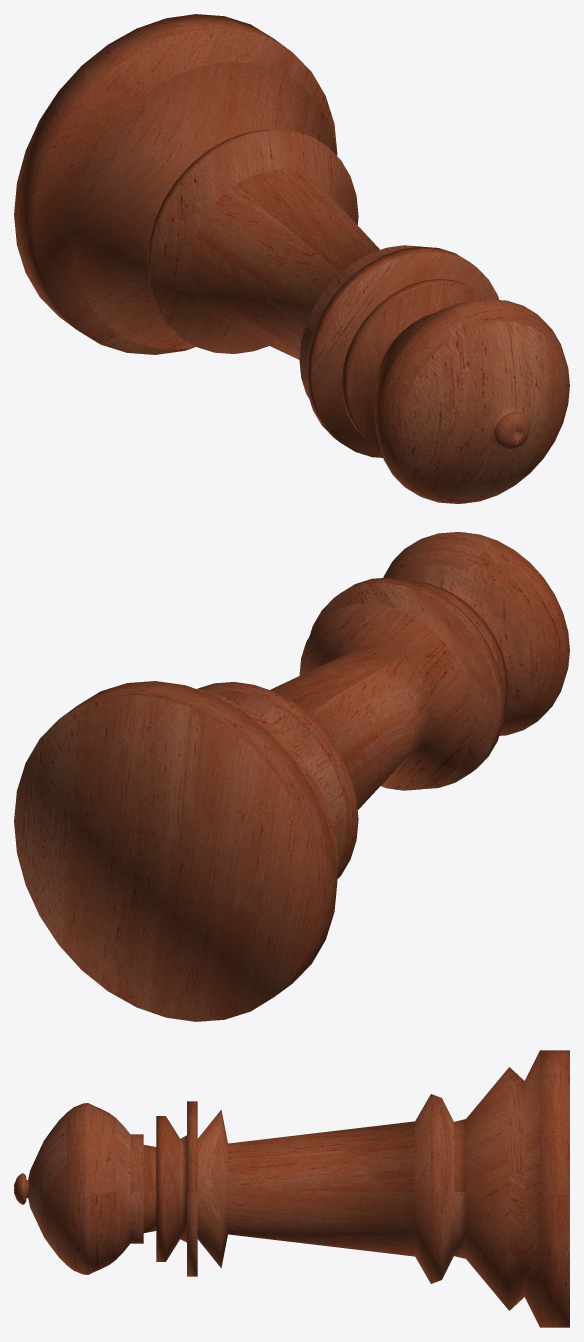
Rendered from bishop.obj.
The picture shows the model from 3 angles, top to bottom: view 1: azimuth 30°, elevation 25°; view 2: azimuth 150°, elevation 25°; view 3: azimuth 270°, elevation 25°; orthographic projection. The views are drawn at different scales.
Parts seen in each view (by area): view 1: Bishop_Goniec; view 2: Bishop_Goniec; view 3: Bishop_Goniec.
Part boxes in pixels (x1=…): Bishop_Goniec: x1=14, y1=14, x2=569, y2=503; Bishop_Goniec: x1=14, y1=532, x2=569, y2=1021; Bishop_Goniec: x1=14, y1=1050, x2=569, y2=1327.
Bounding box in the file's own units: 0.3139 × 0.3139 × 0.6282.
